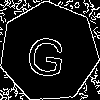G: (24, 27, 69, 79)
